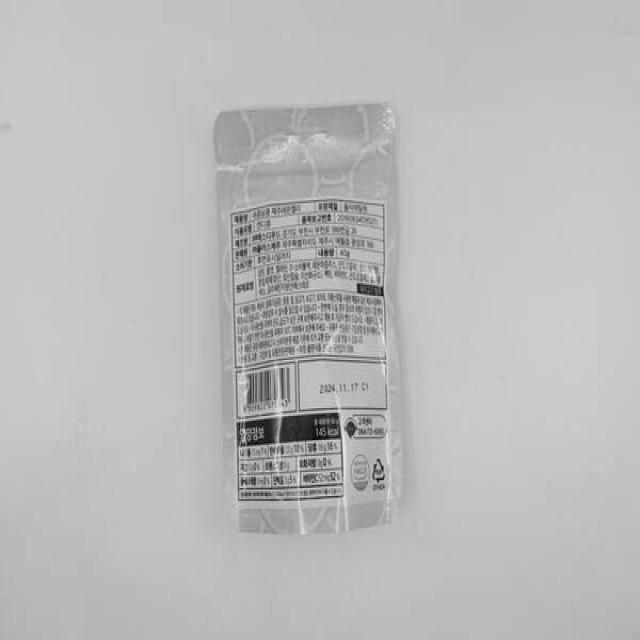Nutrition Label: (234, 411, 355, 518)
